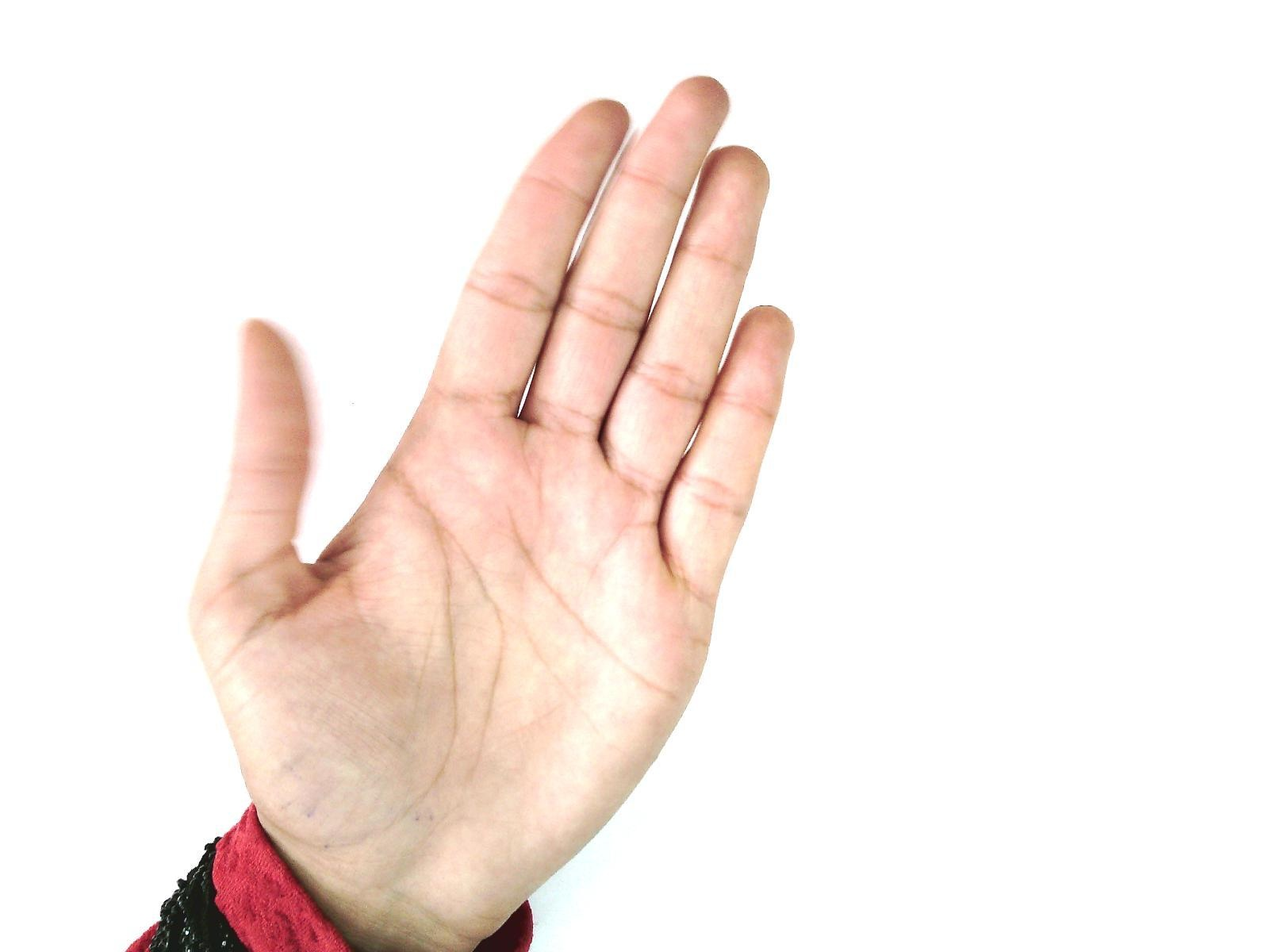open_palm: (185, 75, 798, 946)
